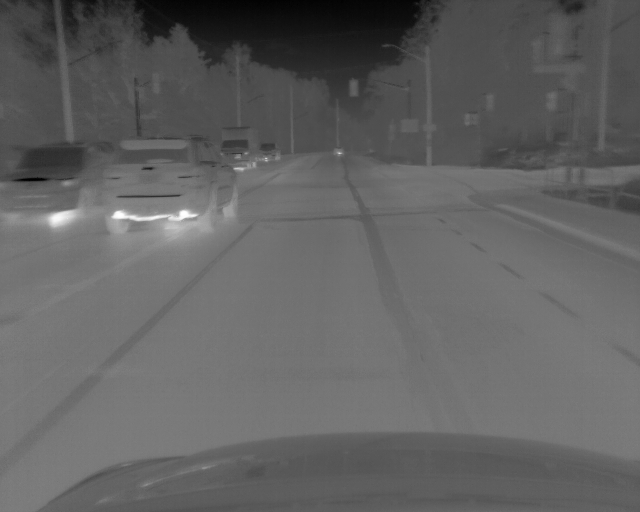car: (101, 137, 240, 230), (1, 142, 103, 230), (219, 126, 258, 173), (258, 142, 280, 164), (331, 145, 346, 157)
